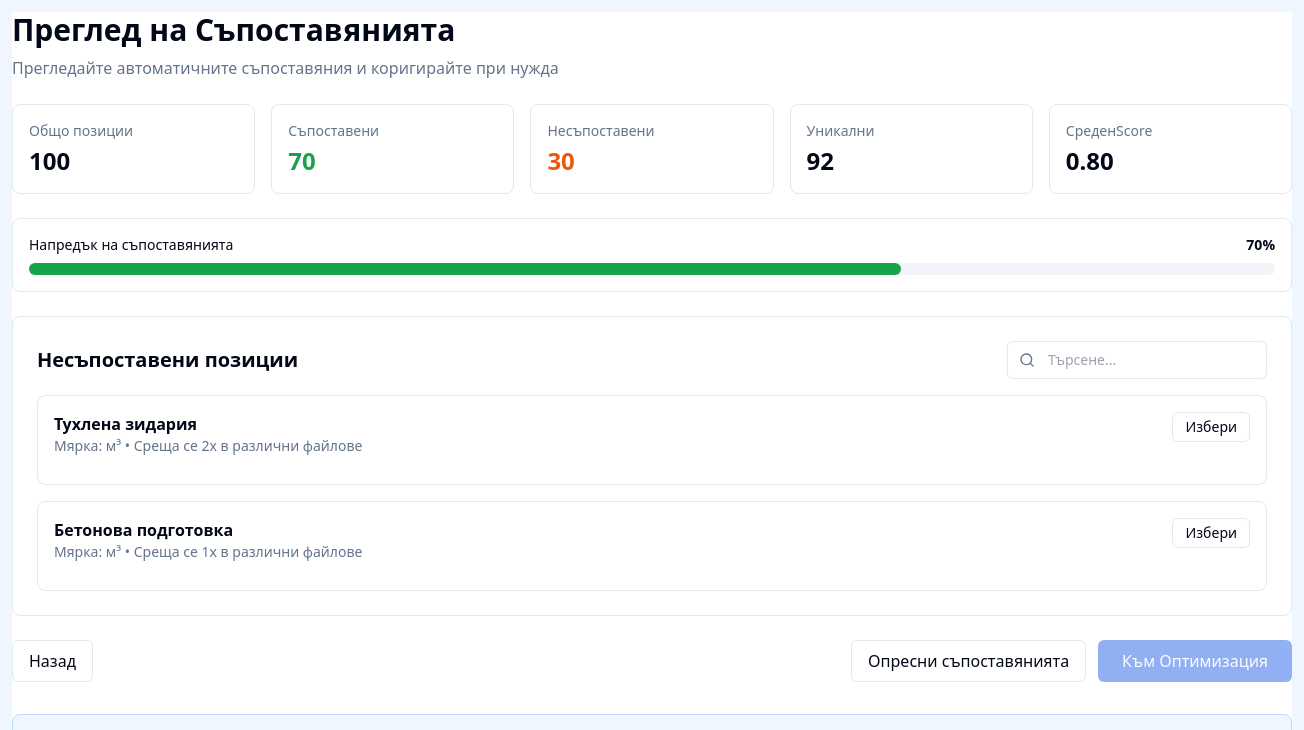
Test: MatchPage › filters candidates based on search term
Expected: the heading "Тухлена зидария" is shown, [54, 413, 197, 435]
Expected: the heading "Бетонова подготовка" is shown, [54, 519, 233, 541]
// Type in search box
Type "тухл" into the field with placeholder "Търсене...".
click(1137, 360); type("тухл")  # box [1007, 341, 1267, 379]
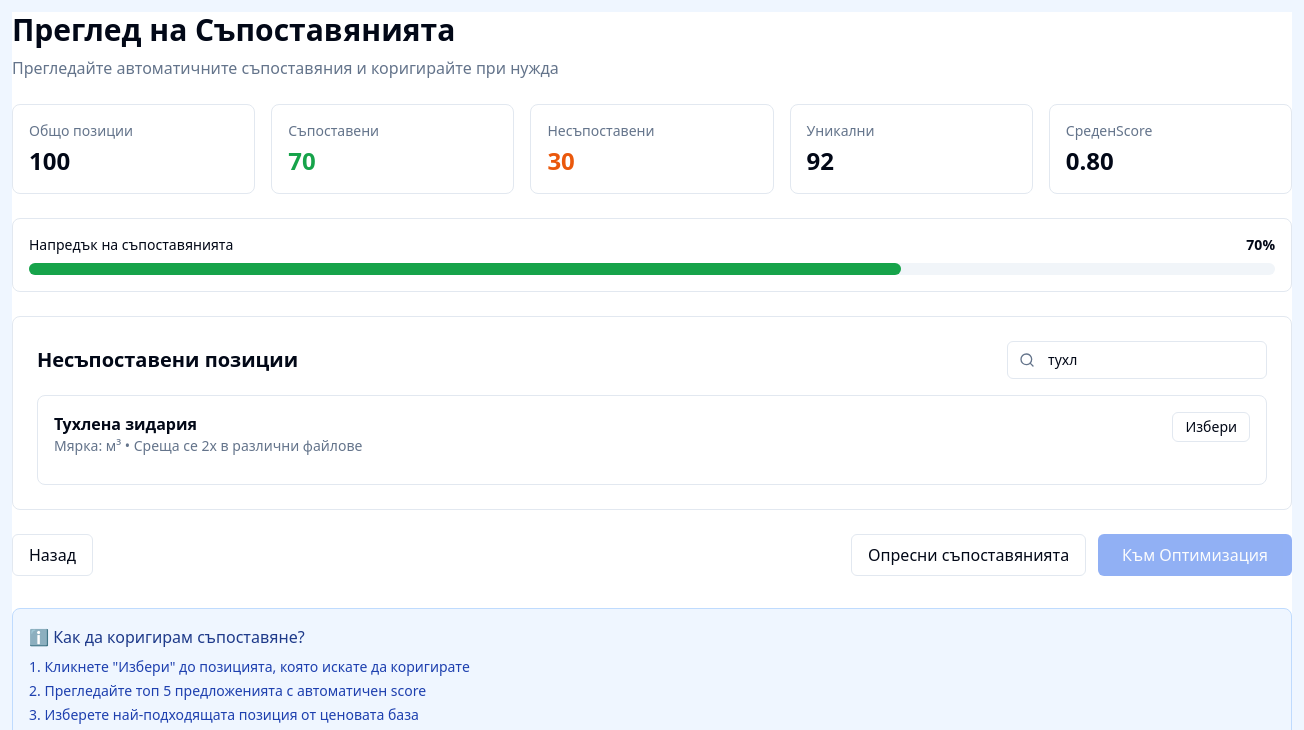
Expected: the heading "Тухлена зидария" is shown, [54, 413, 197, 435]
Now the heading "Бетонова подготовка" is gone
